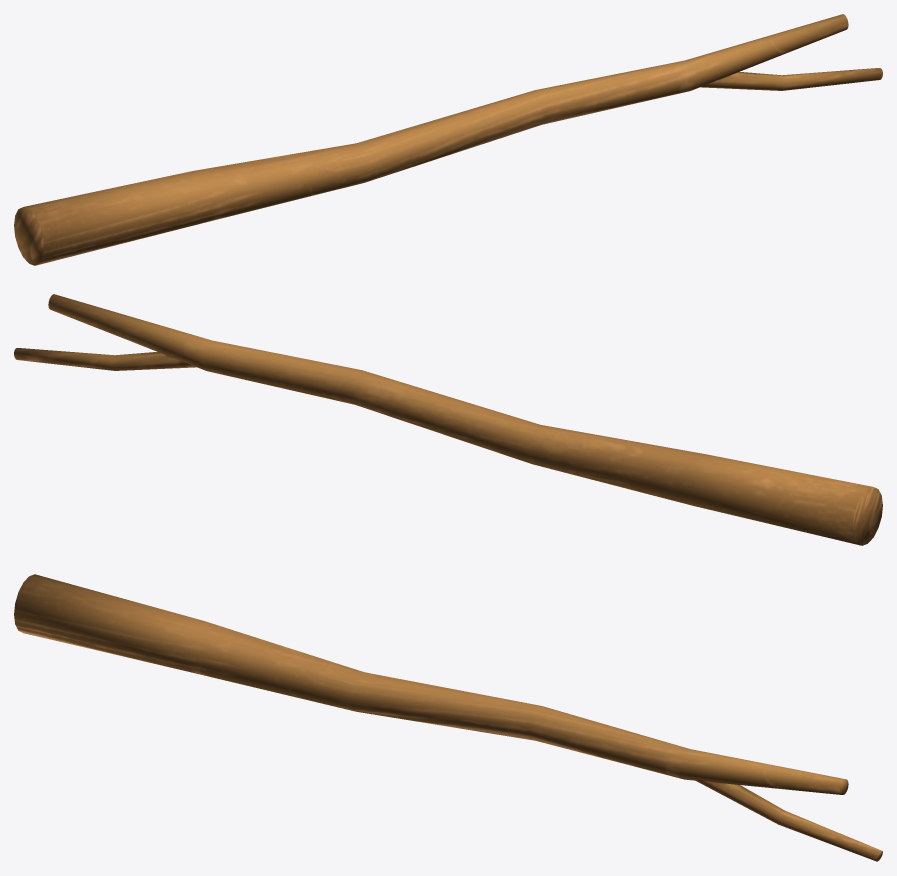
File: Dahan_Pohon_texture.fbx
3 renders of one model, top to bottom at view 1: azimuth 30°, elevation 25°; view 2: azimuth 150°, elevation 25°; view 3: azimuth 330°, elevation 25°, orthographic.
Parts seen in each view (by area): view 1: Cylinder; view 2: Cylinder; view 3: Cylinder.
Boxes of the visible parts, x1,y1,x2,y2 form: Cylinder: [14, 14, 882, 265]; Cylinder: [14, 294, 882, 545]; Cylinder: [14, 574, 882, 861].
Bounding box in the file's own units: 411 × 35.86 × 25.21.
